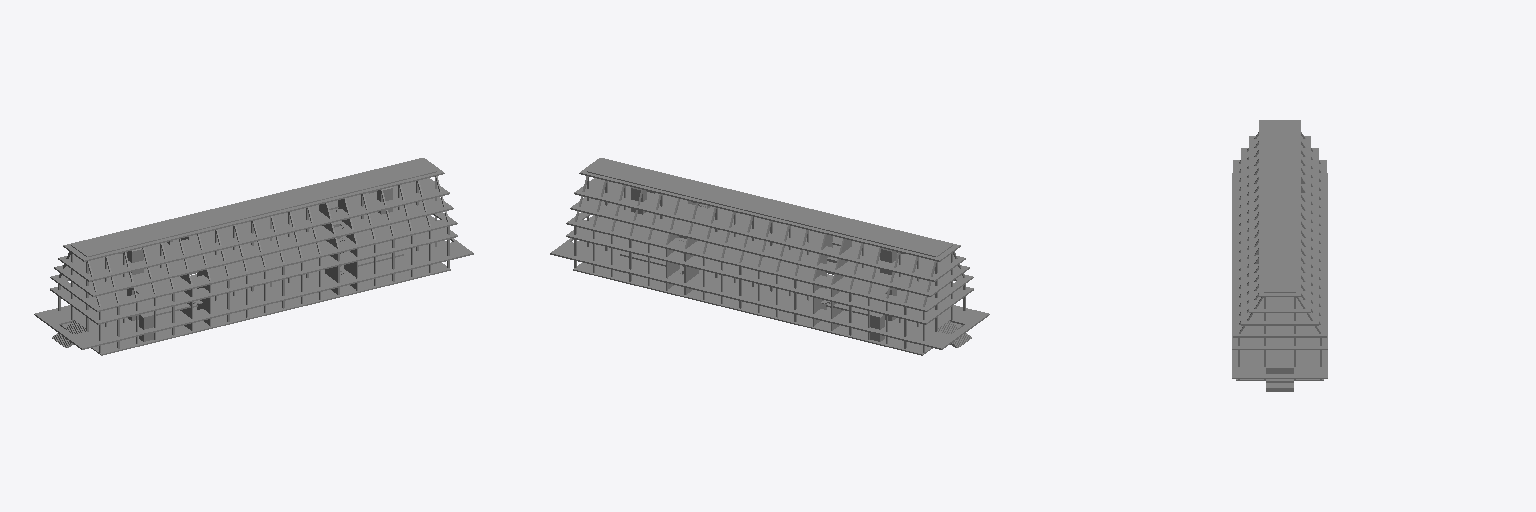
The picture shows the model from 3 angles: view 1: azimuth 30°, elevation 25°; view 2: azimuth 150°, elevation 25°; view 3: azimuth 270°, elevation 25°; orthographic projection.
Visible parts, largest first — view 1: BUILDING002; view 2: BUILDING002; view 3: BUILDING002.
Boxes of the visible parts, <box> form: BUILDING002: <box>34,158,473,355</box>; BUILDING002: <box>550,158,989,355</box>; BUILDING002: <box>1232,120,1327,391</box>.
Size of the model in its own units: 138 by 32.26 by 28.9.